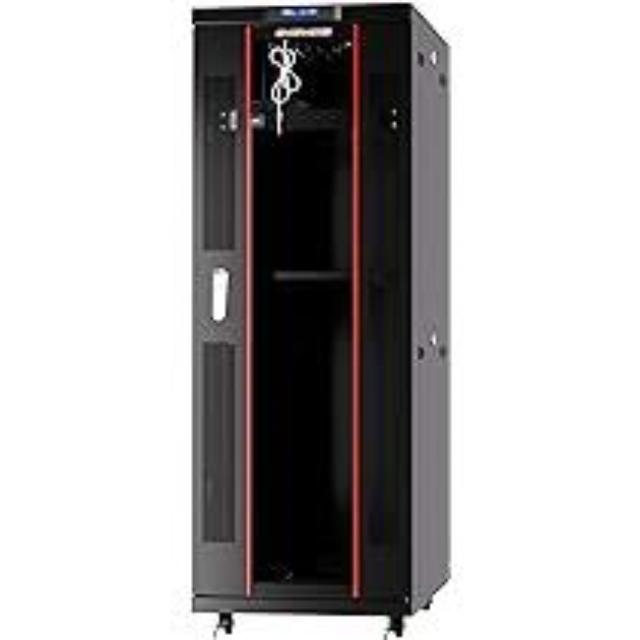Server: (179, 6, 459, 640)
